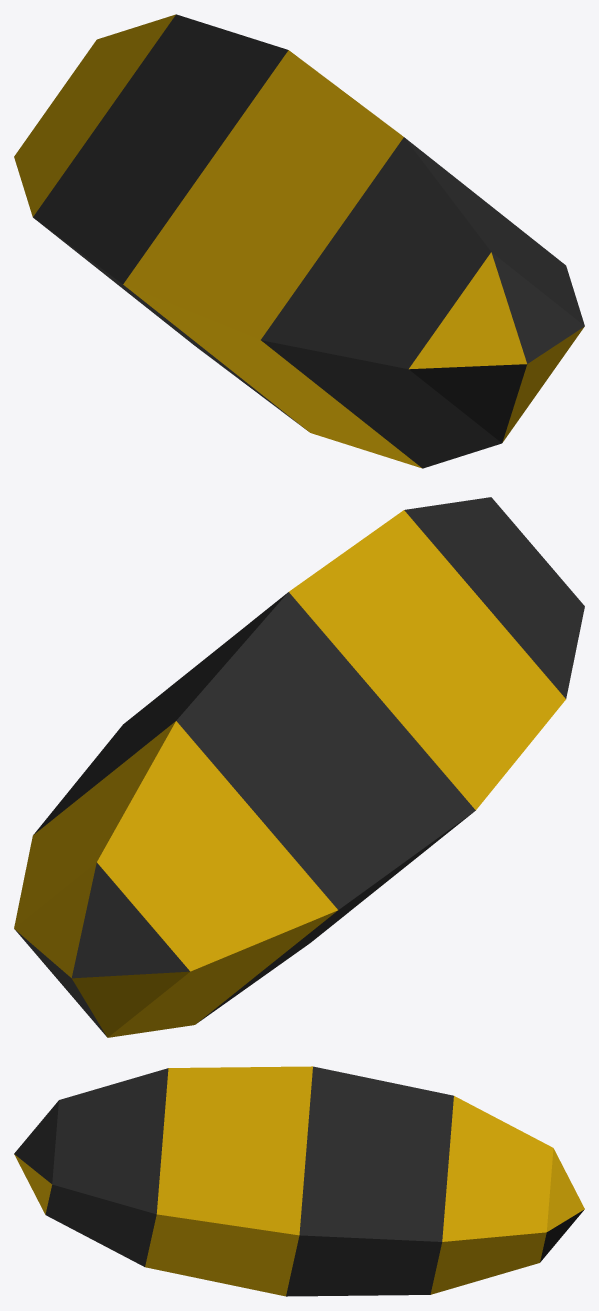
Rendered from Nature_FrogPellet_Yellow.fbx.
3 renders of one model, top to bottom at view 1: azimuth 30°, elevation 25°; view 2: azimuth 150°, elevation 25°; view 3: azimuth 270°, elevation 25°, orthographic. The views are drawn at different scales.
Visible parts, largest first — view 1: pSphere87; view 2: pSphere87; view 3: pSphere87.
Part boxes in pixels (x1,y1,x2,y2): pSphere87: [14, 14, 584, 468]; pSphere87: [14, 497, 584, 1037]; pSphere87: [14, 1066, 584, 1296].
Size of the model in its own units: 15.51 by 15.42 by 34.69.
